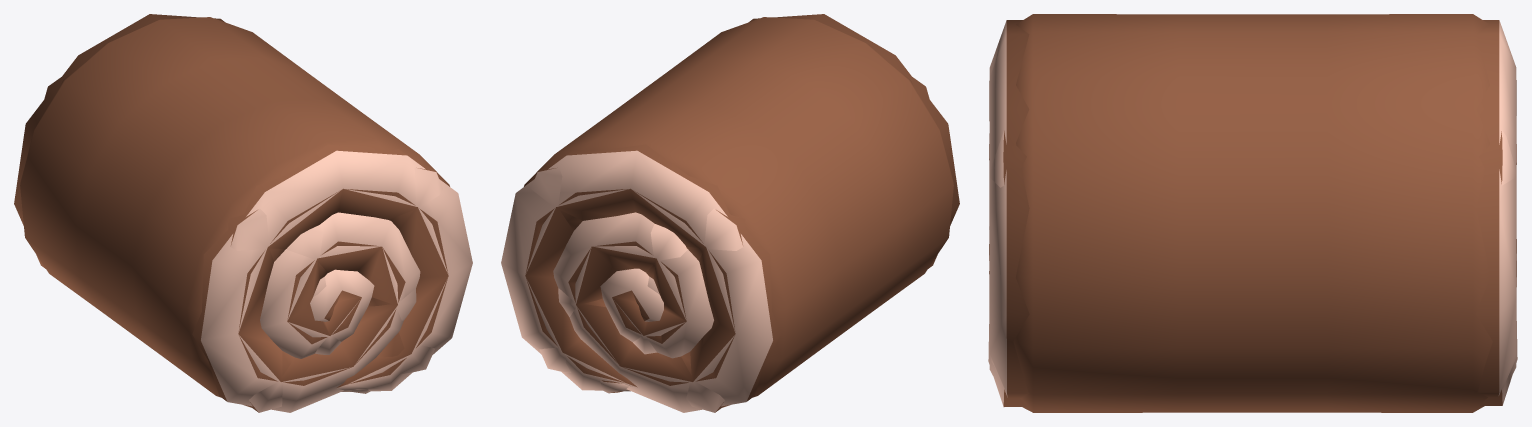
The model's file is SwissRoll_03.fbx.
The picture shows the model from 3 angles, left to right: view 1: azimuth 30°, elevation 25°; view 2: azimuth 150°, elevation 25°; view 3: azimuth 270°, elevation 25°; orthographic projection. The views are drawn at different scales.
Parts seen in each view (by area): view 1: Swissroll_03_LOD1, Swissroll_03_LOD2, Swissroll_03_LOD3; view 2: Swissroll_03_LOD1, Swissroll_03_LOD2, Swissroll_03_LOD3; view 3: Swissroll_03_LOD1, Swissroll_03_LOD2, Swissroll_03_LOD3.
Part boxes in pixels (<box>): Swissroll_03_LOD1: <box>20,17,449,407</box>; Swissroll_03_LOD2: <box>14,14,472,412</box>; Swissroll_03_LOD3: <box>44,77,448,412</box>; Swissroll_03_LOD1: <box>524,17,953,407</box>; Swissroll_03_LOD2: <box>501,14,959,412</box>; Swissroll_03_LOD3: <box>525,77,929,412</box>; Swissroll_03_LOD1: <box>1013,14,1492,412</box>; Swissroll_03_LOD2: <box>989,20,1516,398</box>; Swissroll_03_LOD3: <box>988,80,1517,406</box>.
Size of the model in its own units: 461 by 410 by 576.
